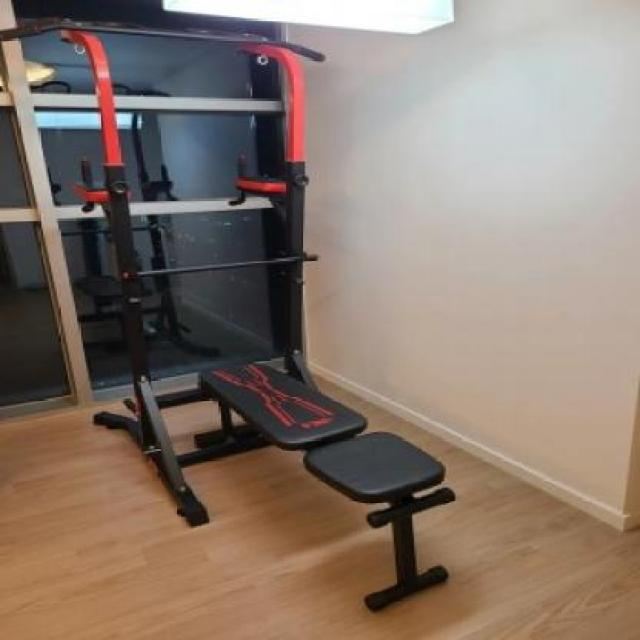chinning dipping: (0, 20, 323, 528)
